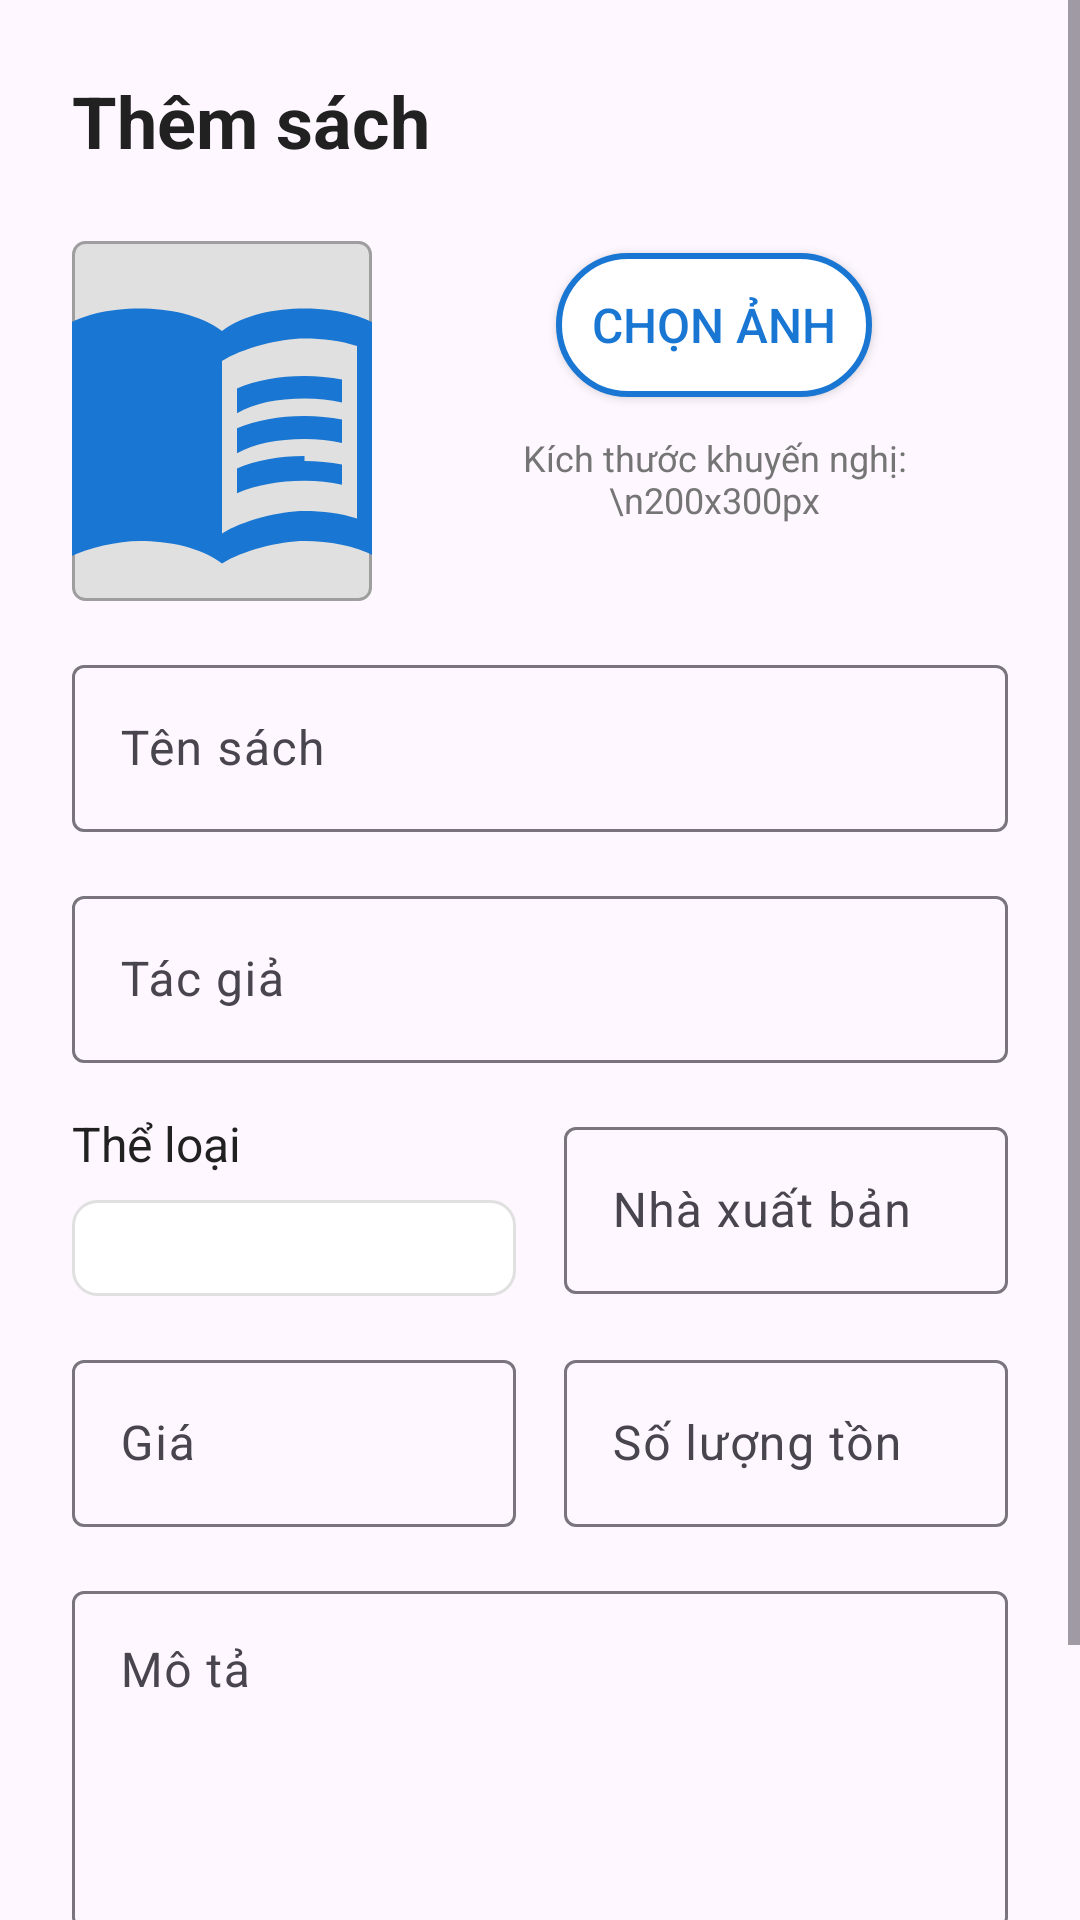

Where to tap for icons on this 1080w x 1920h app screen, as (x=x, y=y):
book: (x=222, y=421)
